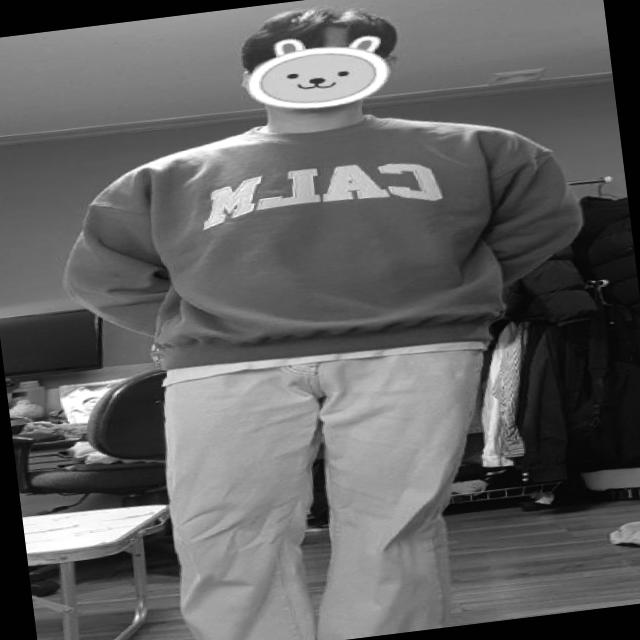cottonpants: (149, 330, 512, 640)
mtm: (46, 93, 591, 394)
